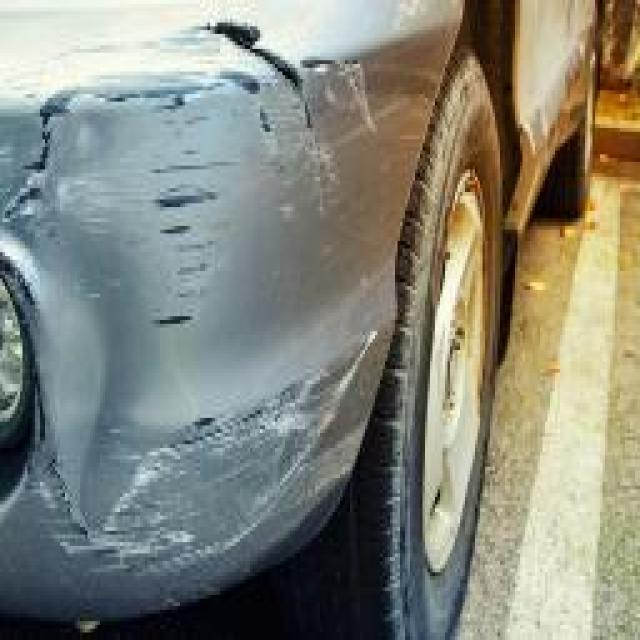Bumper: (2, 4, 385, 602)
